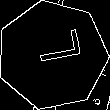L_W: (24, 36, 81, 75)
